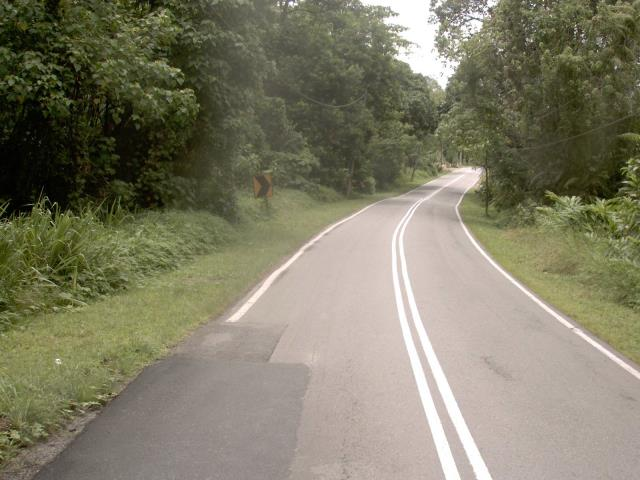traffic_sign: (248, 165, 279, 206)
